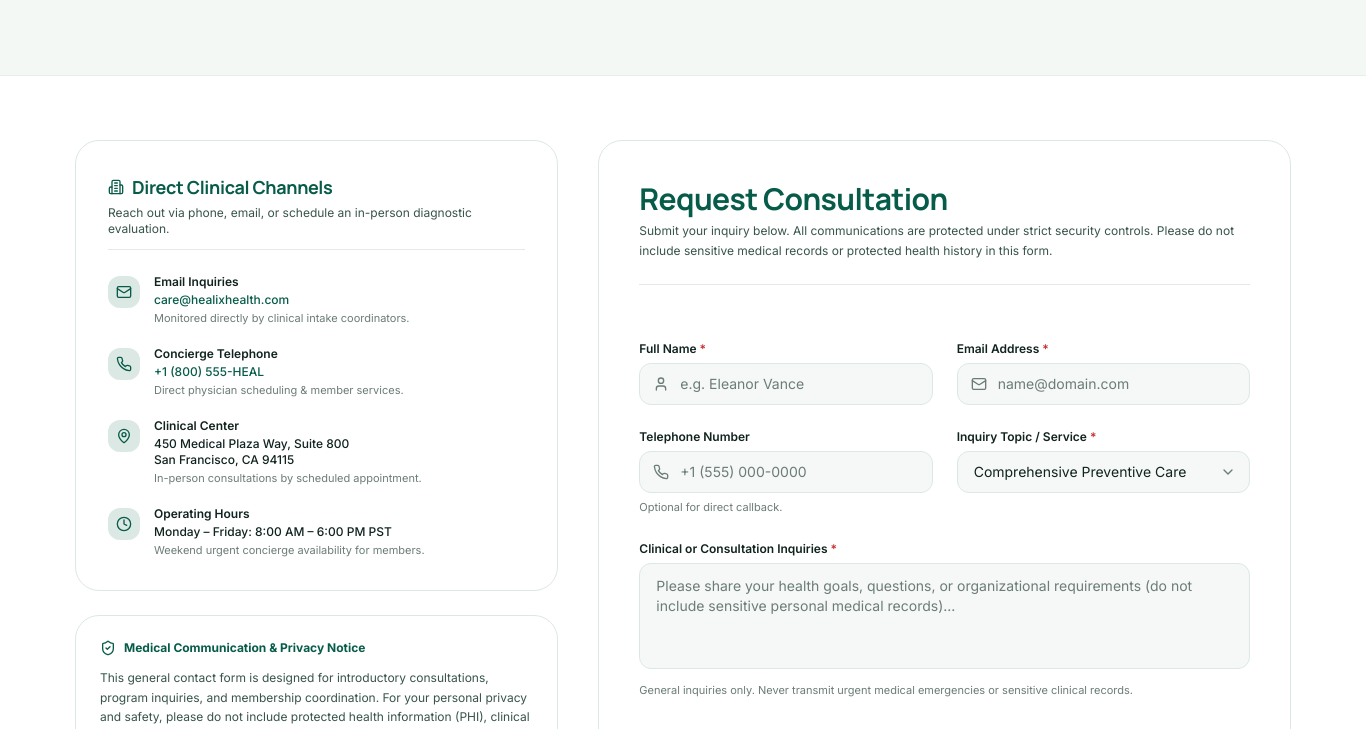
Test case: Contact Experience Tests (Phase 15) › Contact Form Validation & Submission › validates email format in real-time or on blur
The image size is (1366, 729).
(page scrolled)
Type "invalid-email-address" into the field labelled "Email Address *" at (1103, 384), box [957,363,1250,405]
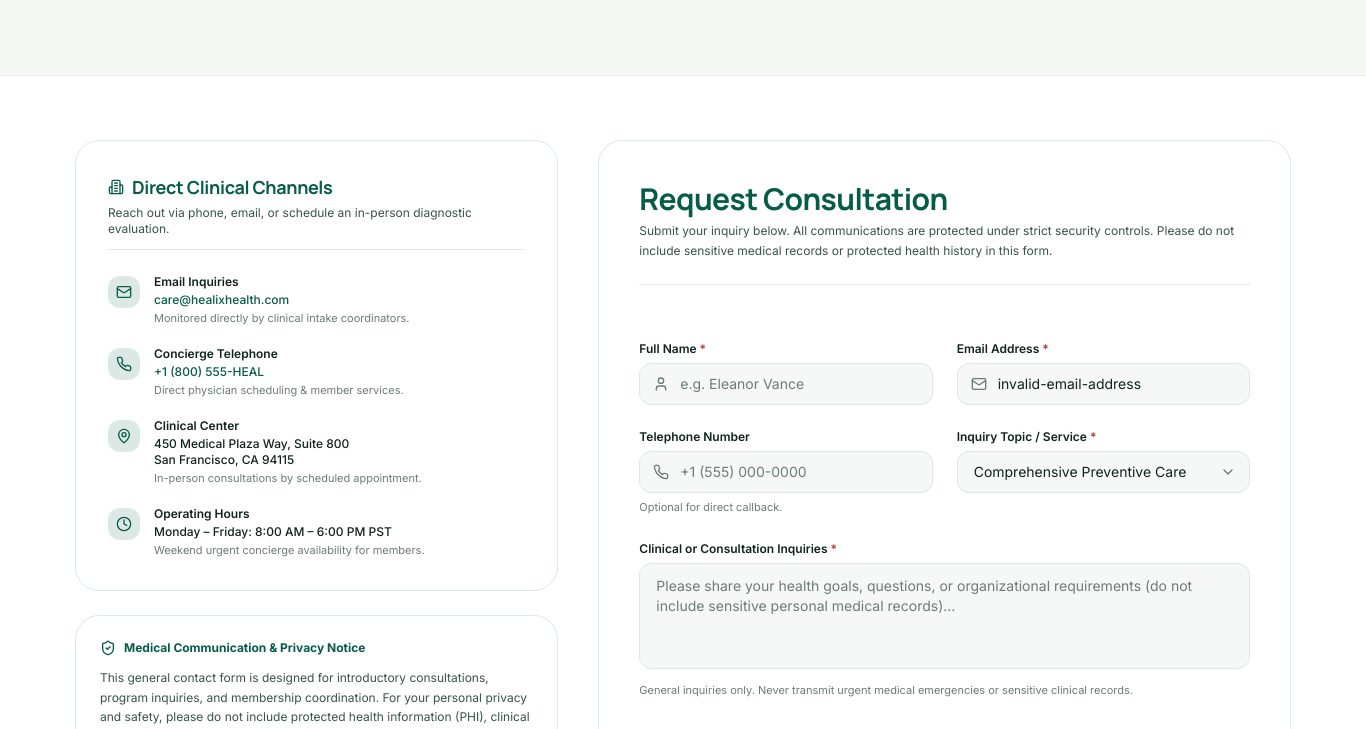
Leave the field labelled "Email Address *", box [957,363,1250,405]
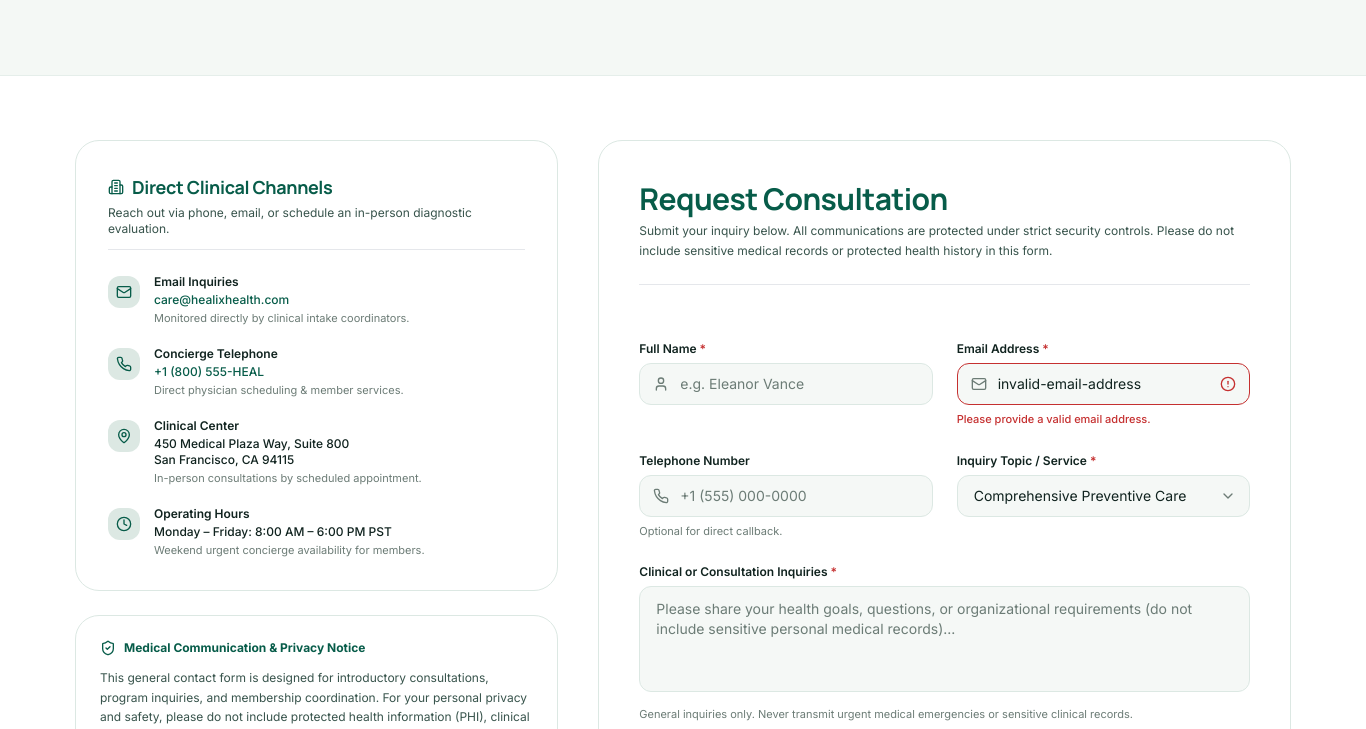
Now the text "Please provide a valid email address." is shown, box [957,411,1151,429]
